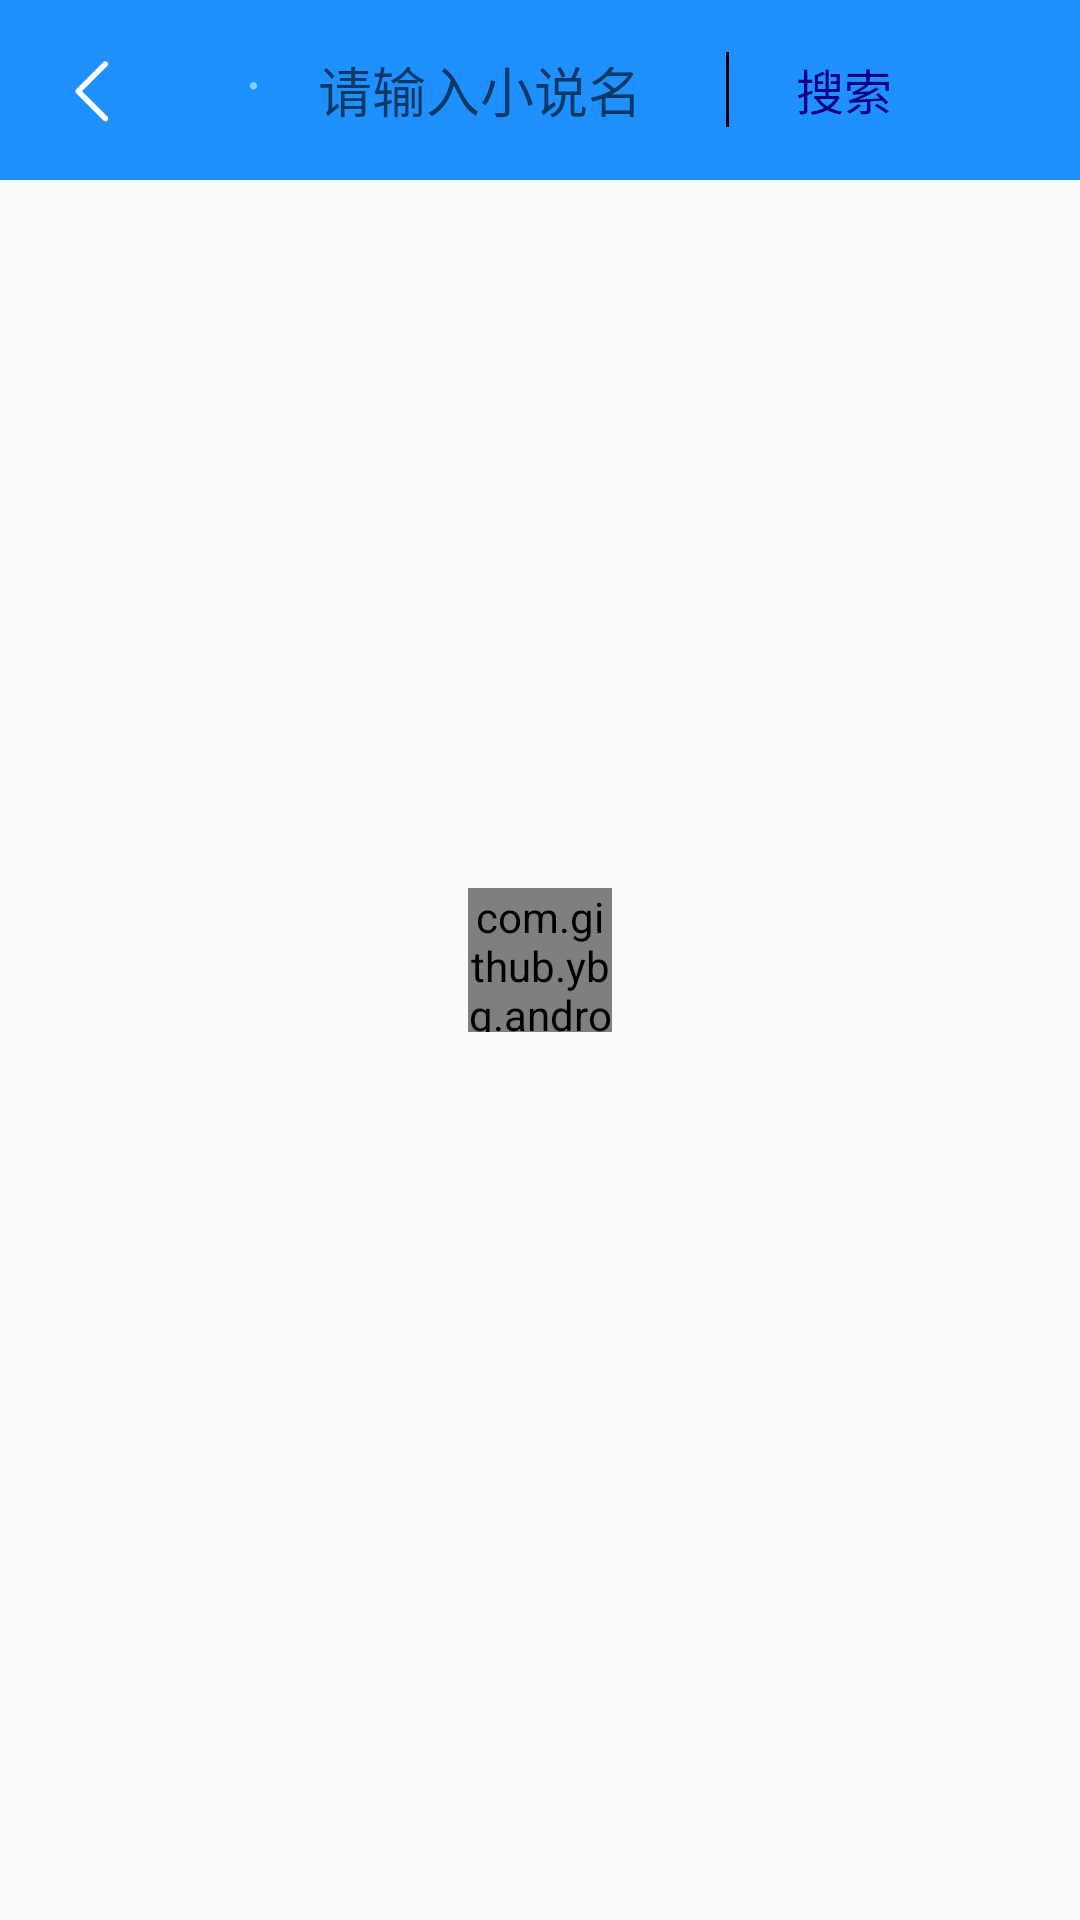

Icons on this 1080px×1920px Android screen, each with its box as (left=x1, top=y1, right=x2, bottom=y2):
back: (left=75, top=61, right=109, bottom=122)
